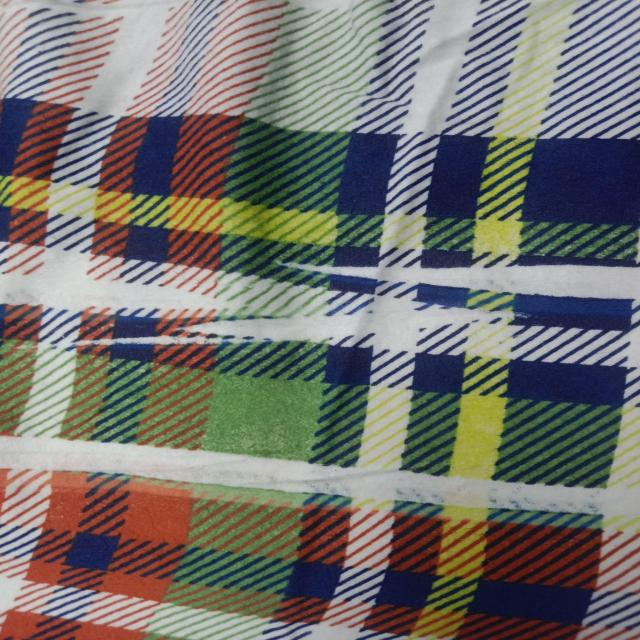selvet: (70, 304, 530, 356), (271, 254, 640, 300), (0, 270, 251, 322)
